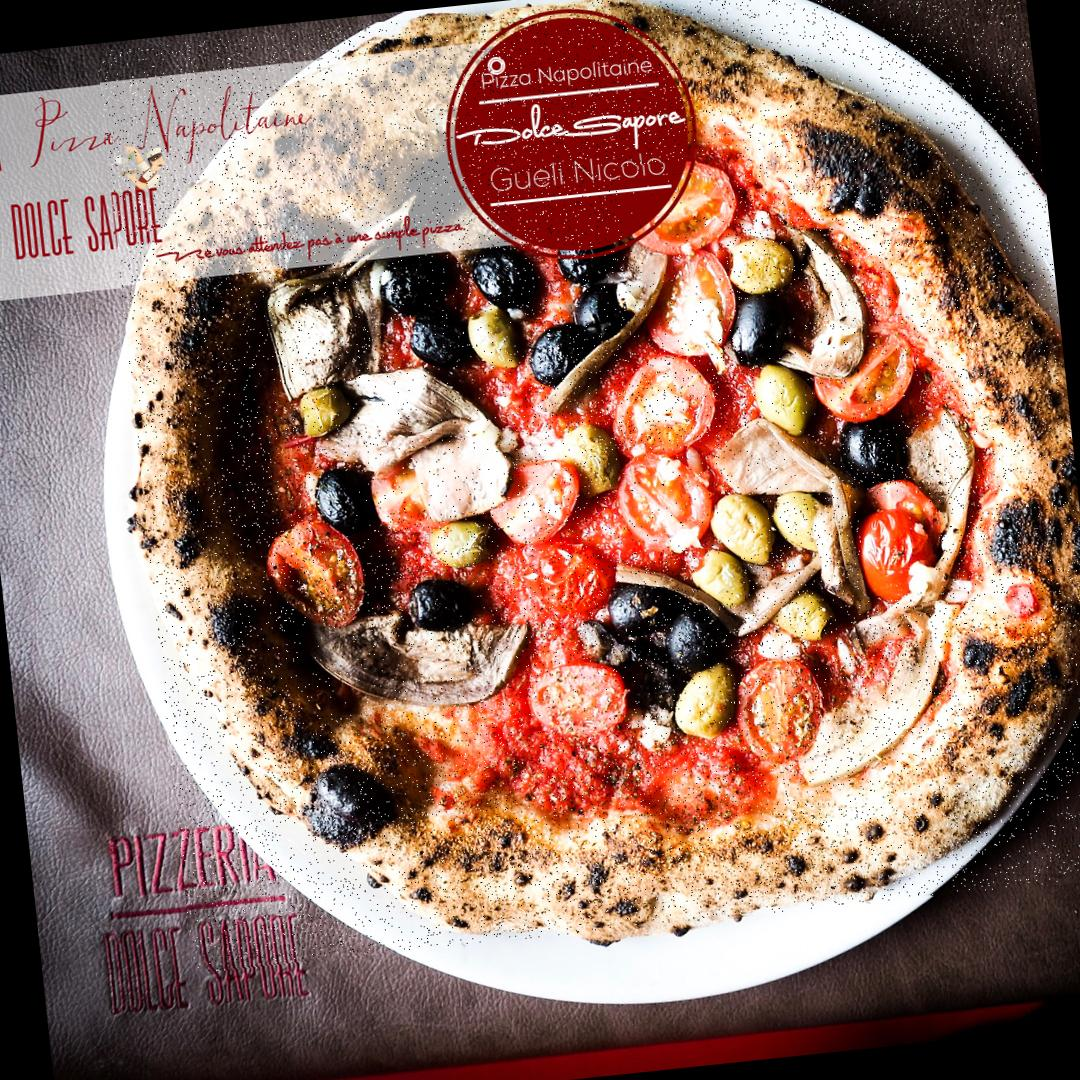Ham: (294, 599, 534, 720), (337, 363, 515, 516), (725, 425, 848, 502)
Mushroom: (841, 592, 936, 735), (260, 271, 366, 390)
Olives: (372, 242, 462, 316), (737, 294, 806, 364), (755, 350, 811, 436), (470, 248, 544, 312), (728, 236, 800, 298), (678, 669, 735, 746), (314, 474, 380, 537), (400, 573, 481, 624), (401, 311, 471, 369), (554, 242, 636, 289), (657, 602, 723, 660), (716, 491, 772, 558), (694, 544, 746, 607), (853, 424, 906, 484), (569, 286, 622, 344), (464, 307, 528, 355), (776, 495, 830, 549), (603, 588, 672, 630), (425, 522, 494, 564), (532, 334, 588, 382)
Pizza: (97, 0, 1080, 974)
Tomatoes: (595, 345, 726, 462), (728, 656, 840, 778), (608, 440, 722, 552), (809, 324, 923, 434), (262, 520, 367, 632), (618, 157, 736, 255), (488, 544, 613, 626), (641, 242, 736, 347), (858, 488, 940, 608), (524, 655, 647, 732), (496, 462, 588, 545)
